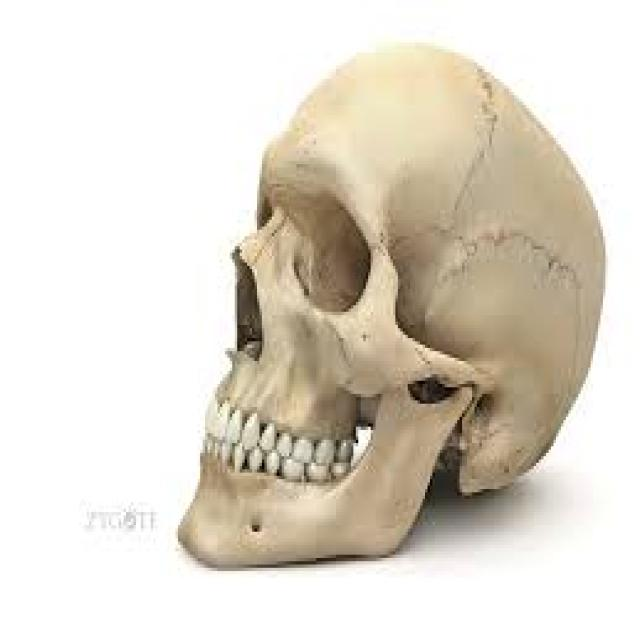skull: (171, 35, 613, 590)
